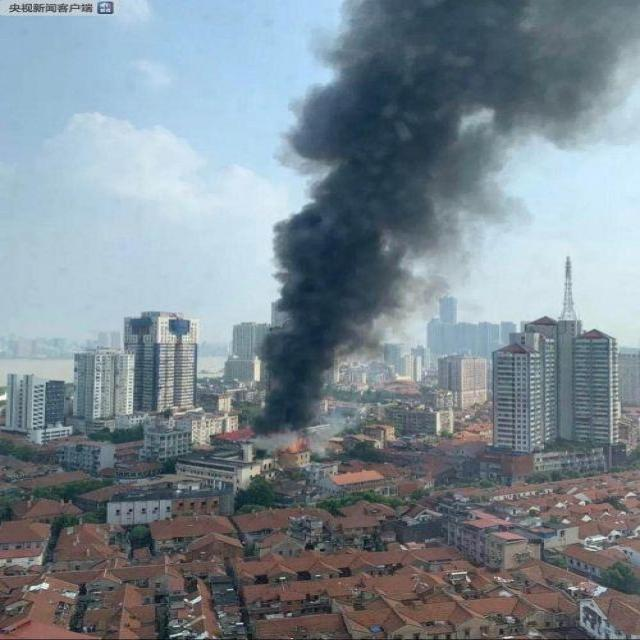Smoke: (245, 1, 640, 461)
